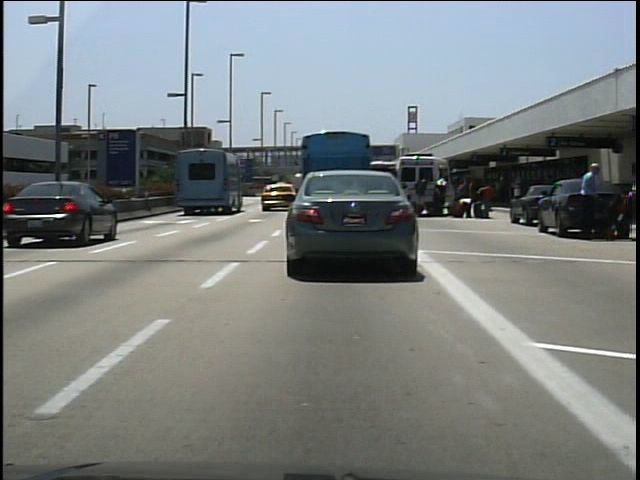person: (574, 158, 608, 243), (430, 174, 450, 221), (413, 173, 432, 220), (455, 176, 475, 220), (478, 180, 496, 222)
